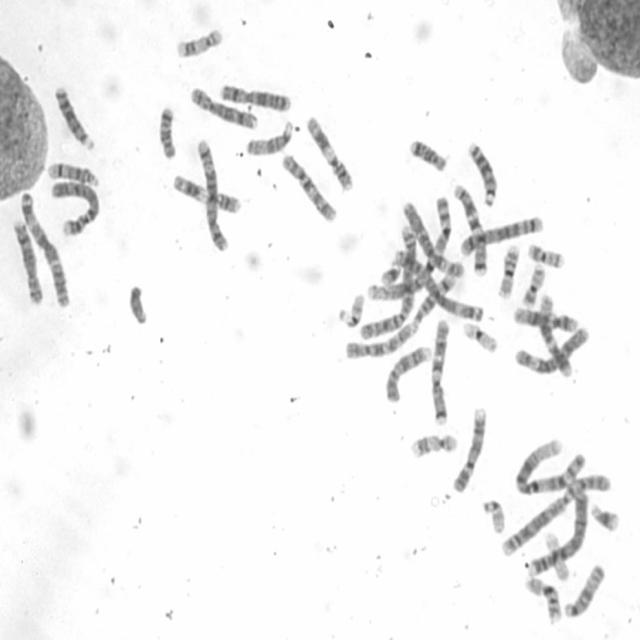A1: (365, 192, 454, 304), (511, 436, 587, 496)
A2: (498, 469, 613, 559), (358, 222, 420, 344)
A3: (388, 246, 484, 323), (16, 187, 72, 309)
B4: (527, 489, 589, 583), (47, 178, 101, 238)
B5: (194, 135, 230, 253), (457, 213, 545, 258)
C10: (279, 149, 338, 225), (344, 320, 416, 362)
C11: (303, 112, 356, 193), (170, 170, 242, 216)
C12: (536, 290, 574, 377), (510, 303, 580, 334)
C6: (400, 197, 465, 279), (512, 323, 590, 378)
C7: (451, 180, 488, 278), (428, 314, 451, 426)
C8: (10, 215, 46, 306), (188, 84, 258, 130)
C9: (450, 402, 488, 494), (381, 342, 434, 404)
D13: (52, 81, 95, 152), (465, 137, 498, 208)
D14: (412, 270, 460, 326), (45, 158, 101, 188)
D15: (562, 560, 606, 620), (244, 116, 294, 158)
E16: (523, 573, 563, 624), (496, 240, 522, 300)
E17: (174, 26, 225, 60), (408, 429, 458, 461)
E18: (407, 134, 448, 174), (155, 101, 179, 161)
F19: (542, 530, 571, 581), (460, 317, 498, 355)
F20: (520, 261, 546, 308), (526, 239, 566, 269)
G21: (588, 500, 621, 533), (378, 259, 402, 287)
G22: (335, 289, 366, 329), (480, 495, 507, 535)
X: (217, 80, 292, 113)
Y: (127, 281, 149, 326)
